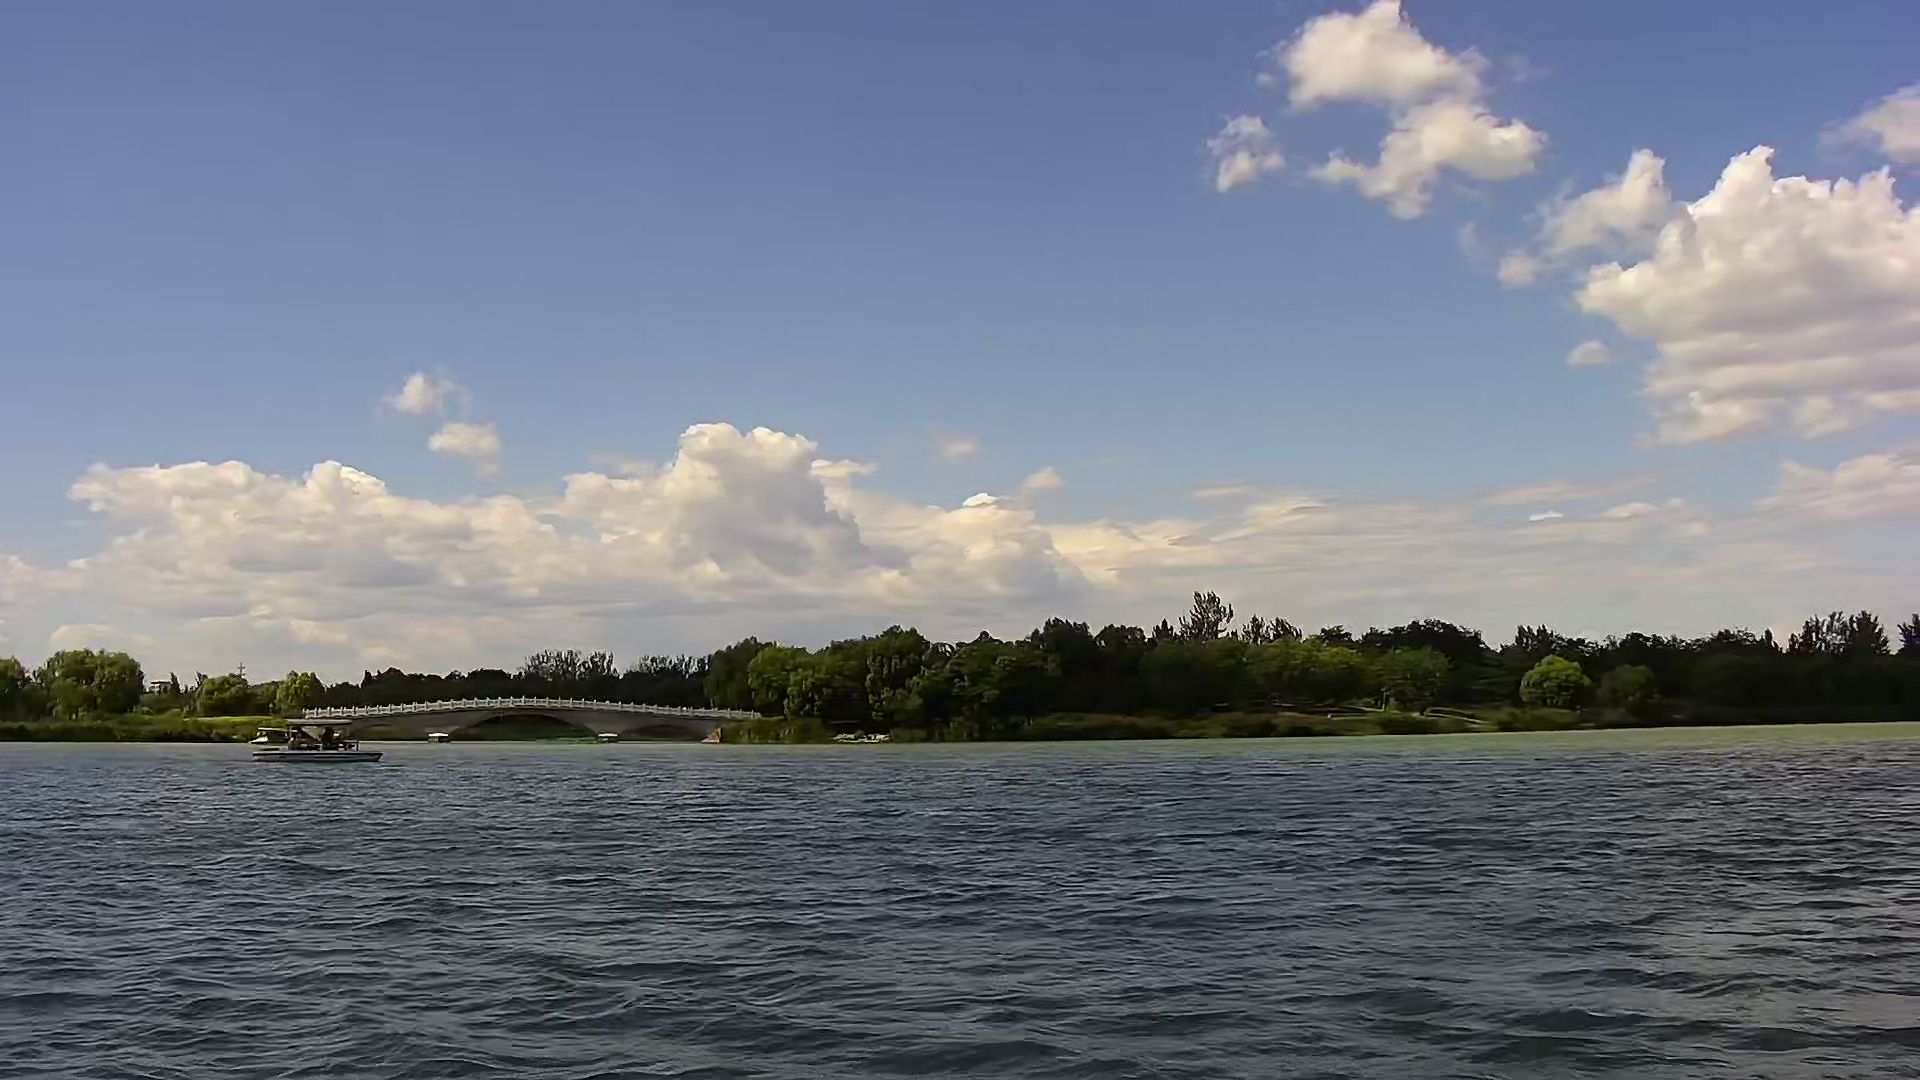boat: (243, 717, 384, 767)
bridge: (336, 691, 761, 749)
